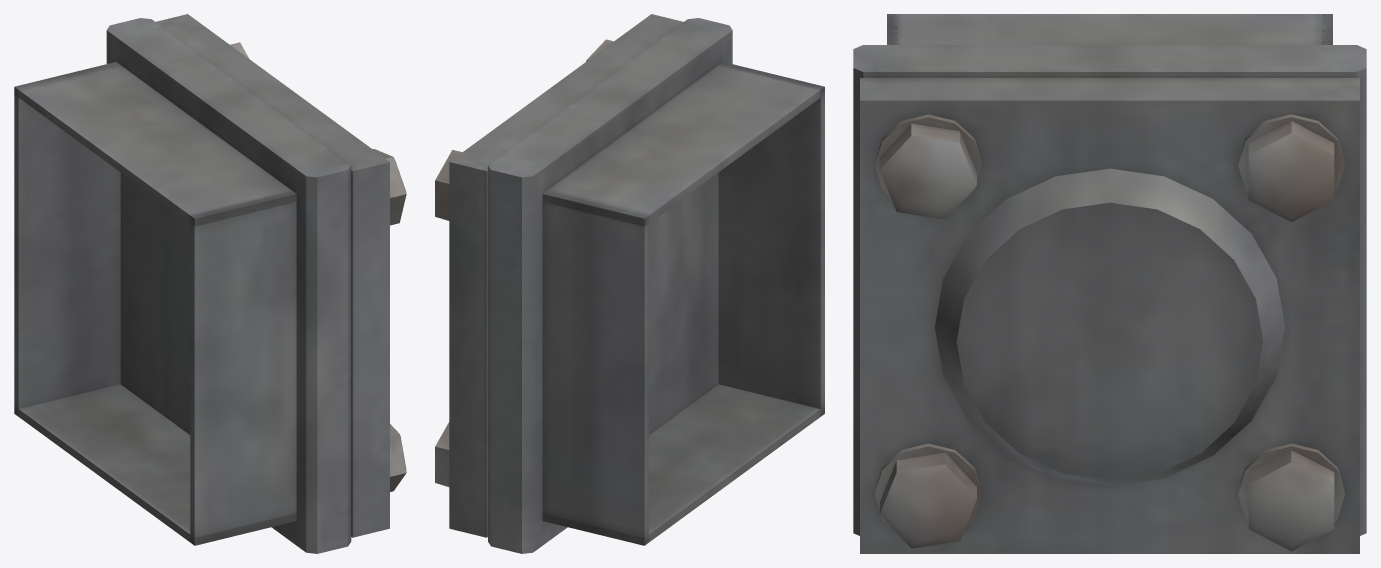
The model's file is armRoot-v1-galvanised.glb.
3 views of the same model, side by side, from view 1: azimuth 30°, elevation 25°; view 2: azimuth 150°, elevation 25°; view 3: azimuth 270°, elevation 25° (orthographic). The views are drawn at different scales.
Visible parts, largest first — view 1: armRoot-v1-galvanised; view 2: armRoot-v1-galvanised; view 3: armRoot-v1-galvanised.
Boxes of the visible parts, bbox=[...] form: armRoot-v1-galvanised: bbox=[14, 14, 406, 553]; armRoot-v1-galvanised: bbox=[435, 14, 824, 553]; armRoot-v1-galvanised: bbox=[853, 14, 1366, 553].
Size of the model in its own units: 0.18 by 0.3048 by 0.3048.
1 material, 1 textured.
